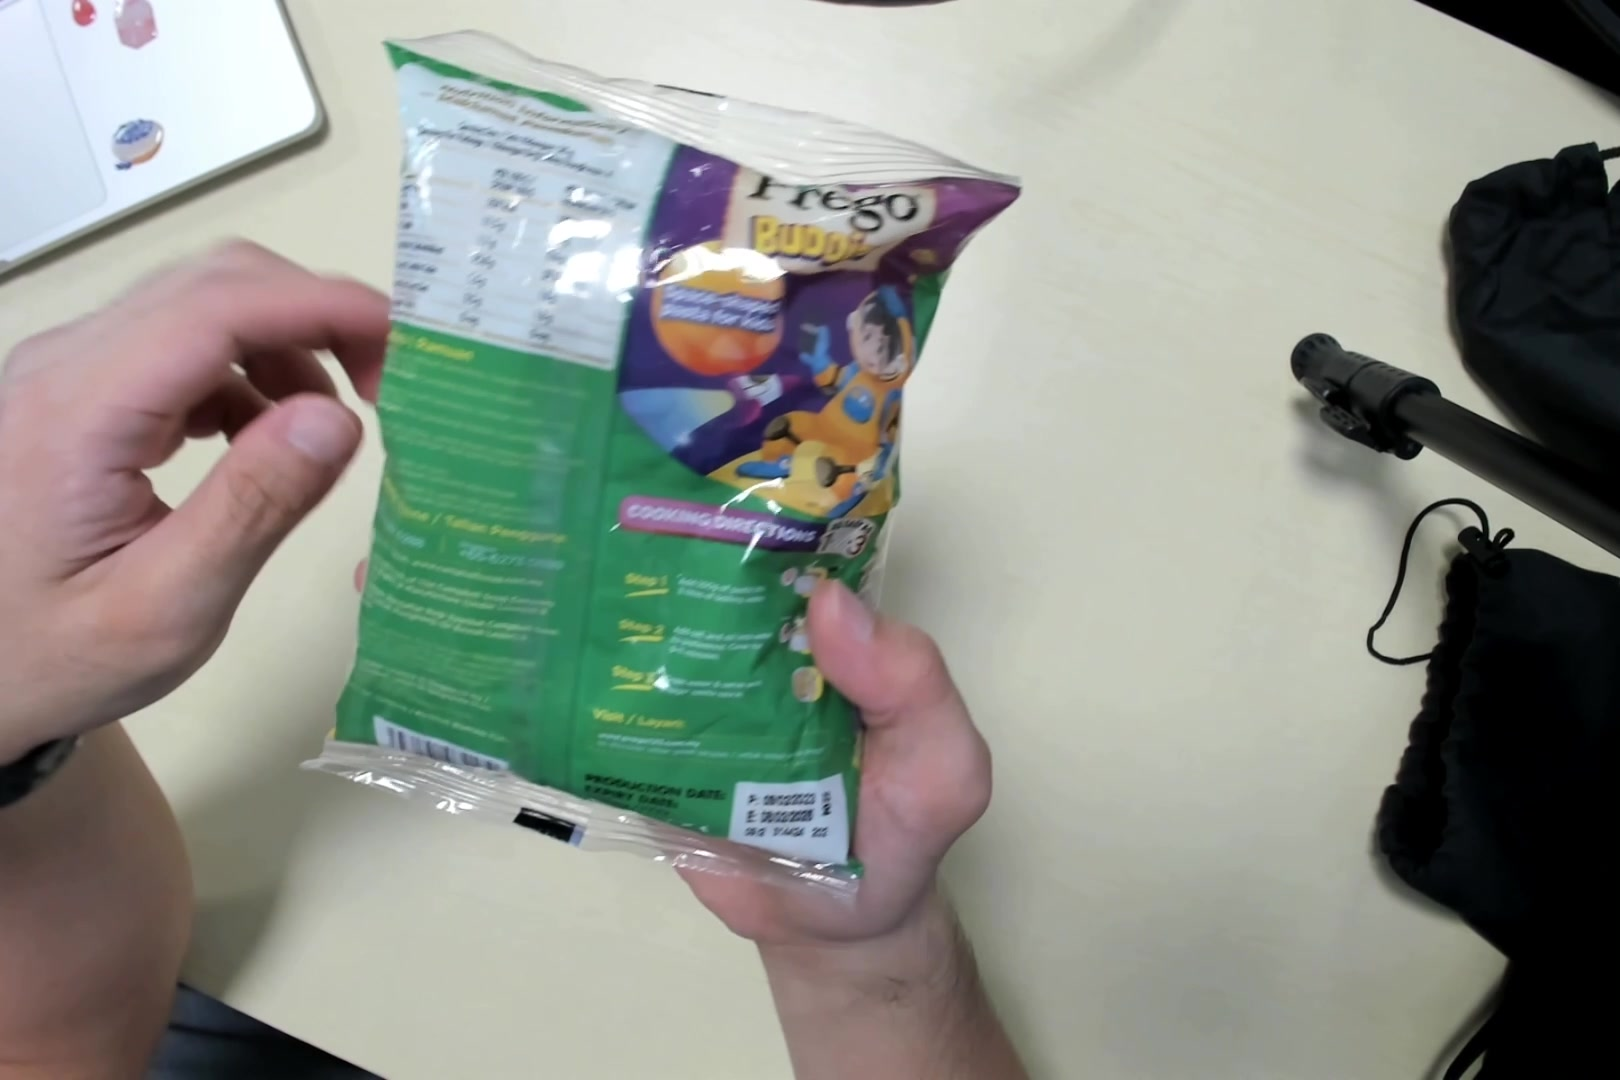Pasta_200-299g_Halal_NonHealthy: (365, 49, 939, 871)
